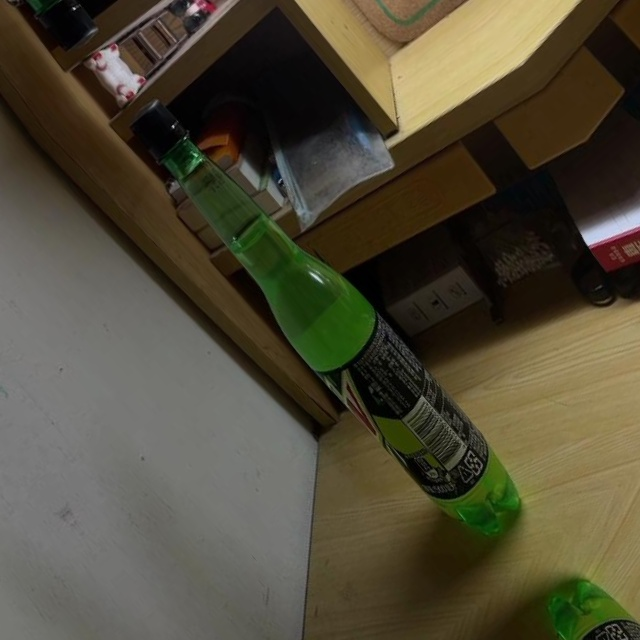Mountain-Dew: (107, 69, 538, 557)
